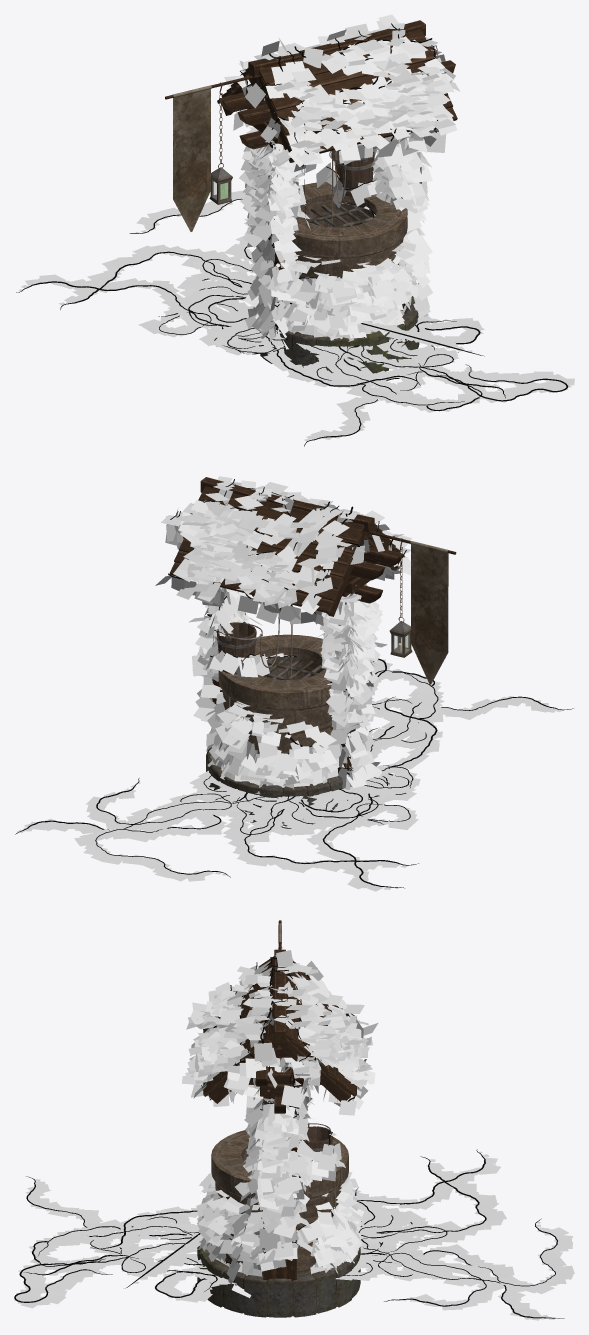
File: Well.glb
3 renders of one model, top to bottom at view 1: azimuth 30°, elevation 25°; view 2: azimuth 150°, elevation 25°; view 3: azimuth 270°, elevation 25°, orthographic. The views are drawn at different scales.
Visible parts, largest first — view 1: Ivy_Well_01 - Well & Frame, Flag, Well, Bars, Bucket; view 2: Ivy_Well_01 - Well & Frame, Flag, Well, Bars, Bucket; view 3: Ivy_Well_01 - Well & Frame, Flag, Bars, Well, Bucket.
Part boxes in pixels (x1,y1,x2,y2): Ivy_Well_01 - Well & Frame: (16,14,574,446); Flag: (165,20,457,327); Well: (292,181,407,307); Bars: (260,205,419,373); Bucket: (218,82,374,226); Ivy_Well_01 - Well & Frame: (15,476,573,891); Flag: (169,477,456,771); Well: (218,634,332,753); Bars: (206,657,342,826); Bucket: (216,538,404,707); Ivy_Well_01 - Well & Frame: (14,950,574,1320); Flag: (203,920,356,1280); Bars: (197,1156,360,1317); Well: (211,1130,348,1275); Bucket: (267,946,335,1233).
Size of the model in its own units: 4.52 by 3.87 by 6.23.
Materials: 7 (5 with a texture image).
